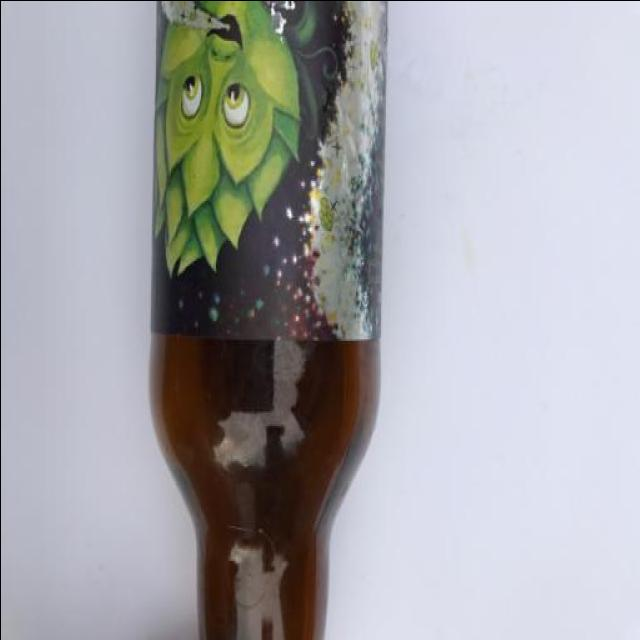glass: (122, 0, 406, 640)
